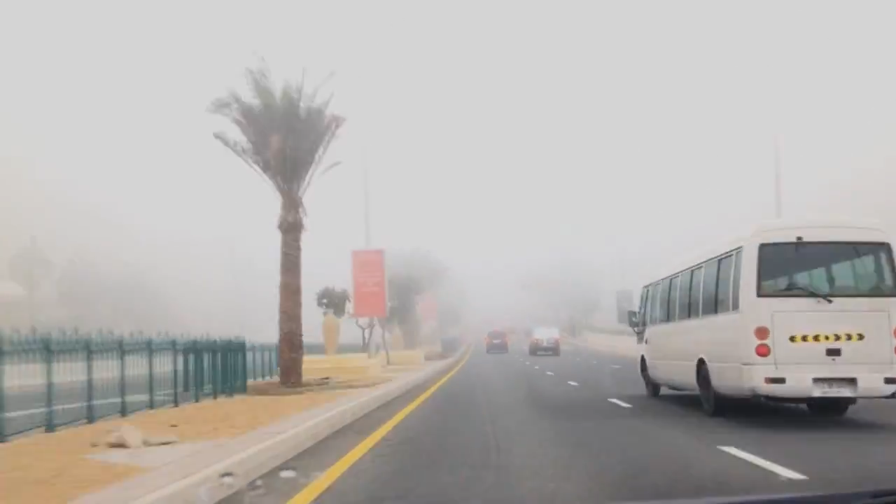bus: (625, 219, 896, 422)
car: (527, 326, 564, 356), (482, 328, 511, 355)
